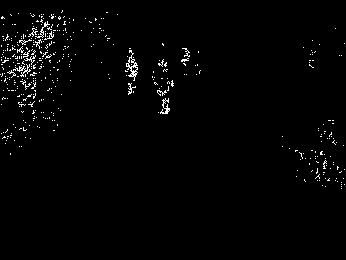person: (151, 55, 175, 116), (124, 46, 139, 97), (180, 46, 193, 81)
